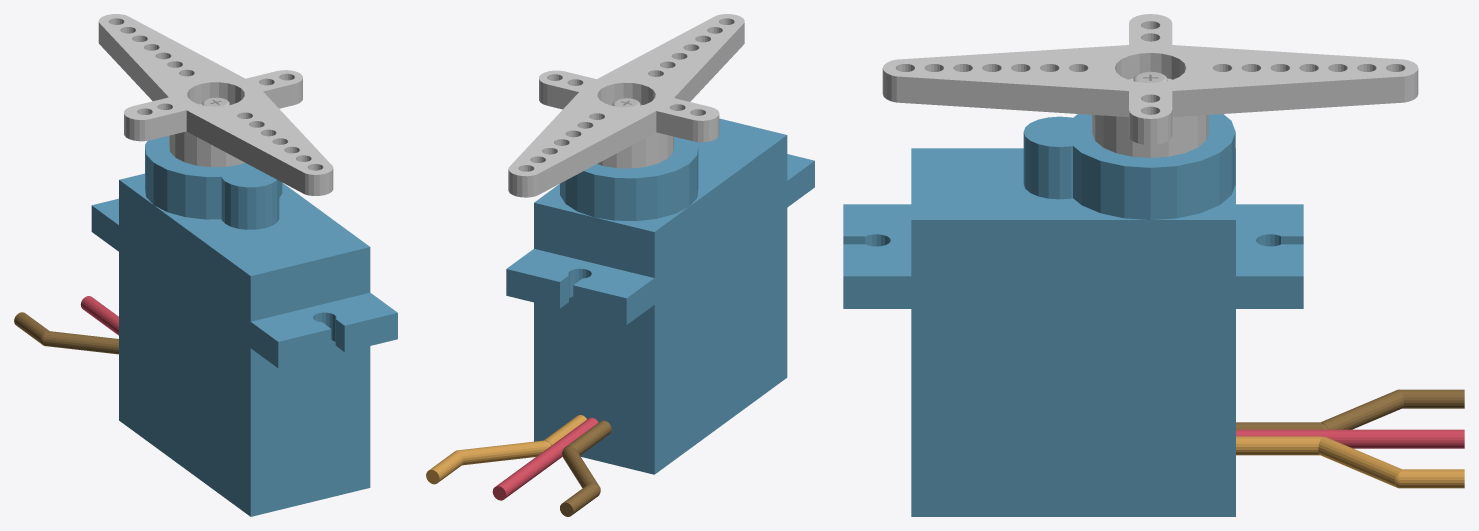
Rendered from servo.glb.
3 renders of one model, left to right at view 1: azimuth 30°, elevation 25°; view 2: azimuth 150°, elevation 25°; view 3: azimuth 270°, elevation 25°, orthographic. The views are drawn at different scales.
Visible parts, largest first — view 1: Mesh_Mesh_head_geo.001_lambert2SG.001; view 2: Mesh_Mesh_head_geo.001_lambert2SG.001; view 3: Mesh_Mesh_head_geo.001_lambert2SG.001.
Boxes of the visible parts, <box> form: Mesh_Mesh_head_geo.001_lambert2SG.001: <box>14,14,397,516</box>; Mesh_Mesh_head_geo.001_lambert2SG.001: <box>426,14,814,516</box>; Mesh_Mesh_head_geo.001_lambert2SG.001: <box>843,14,1464,516</box>.
Size of the model in its own units: 17.22 by 31.7 by 43.05.
